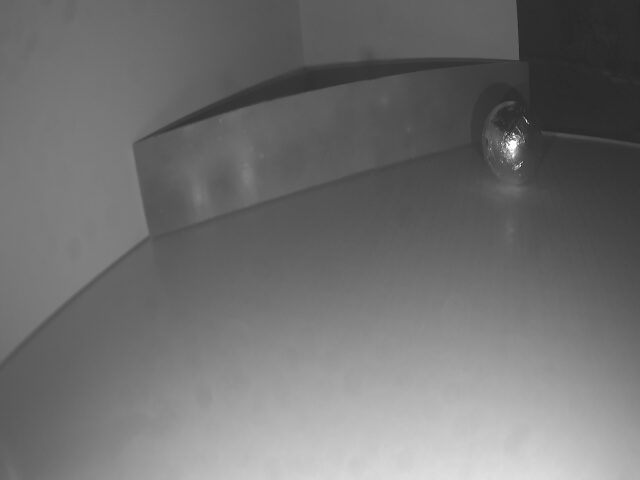Green: (136, 58, 531, 239)
Live: (480, 101, 547, 185)
